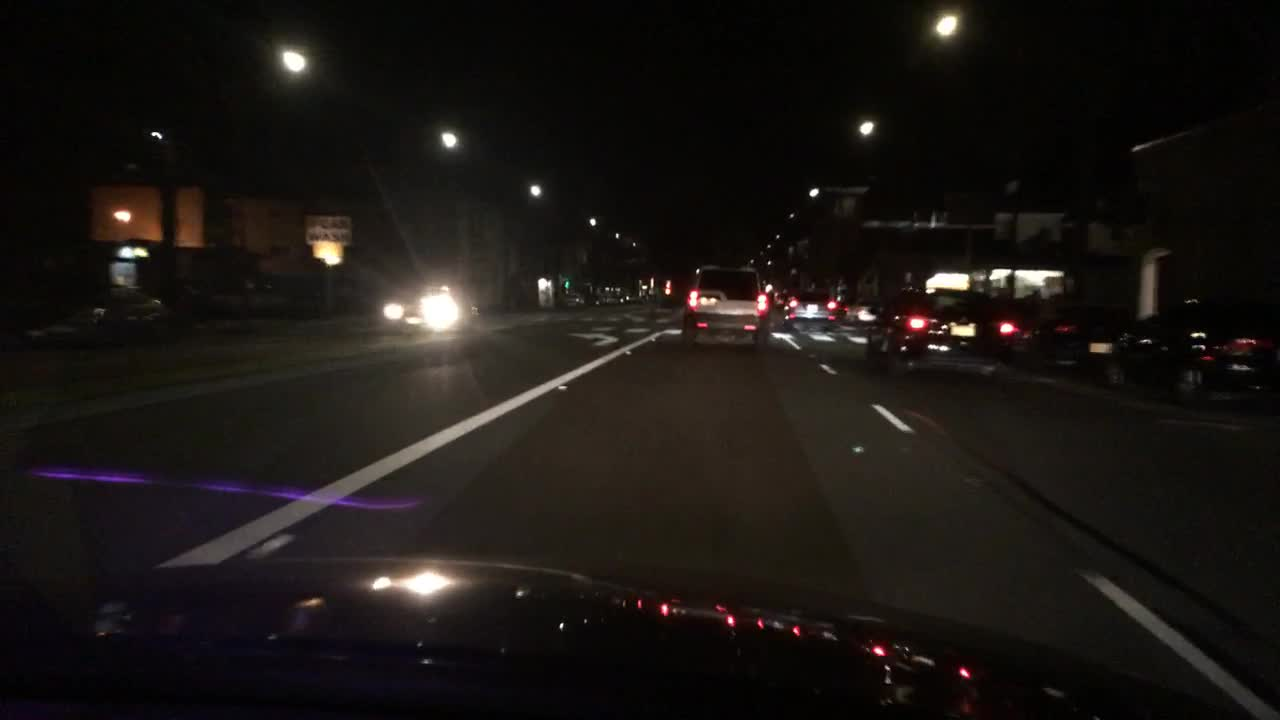car: (1136, 299, 1278, 404), (862, 284, 1004, 380), (990, 295, 1137, 375), (680, 263, 769, 357), (378, 279, 479, 334), (35, 284, 165, 326), (782, 286, 845, 333), (850, 293, 887, 324), (591, 287, 624, 308), (556, 290, 586, 307), (771, 285, 784, 308), (625, 290, 649, 302)
traffic light: (560, 276, 570, 290)
traffic sign: (305, 214, 351, 242)
